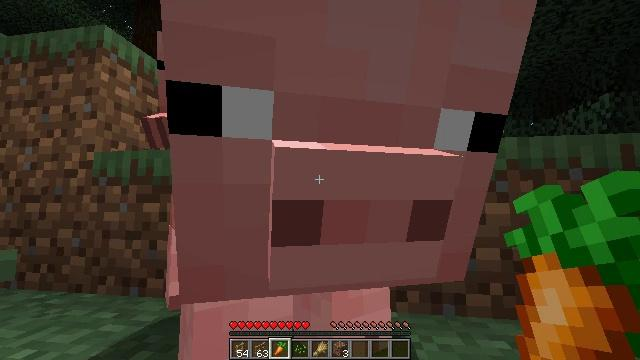pig: (158, 1, 536, 360)
